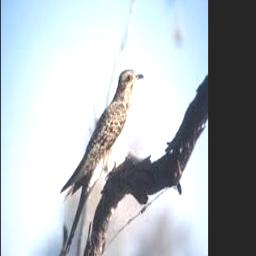Cuckoo: (60, 69, 143, 256)
